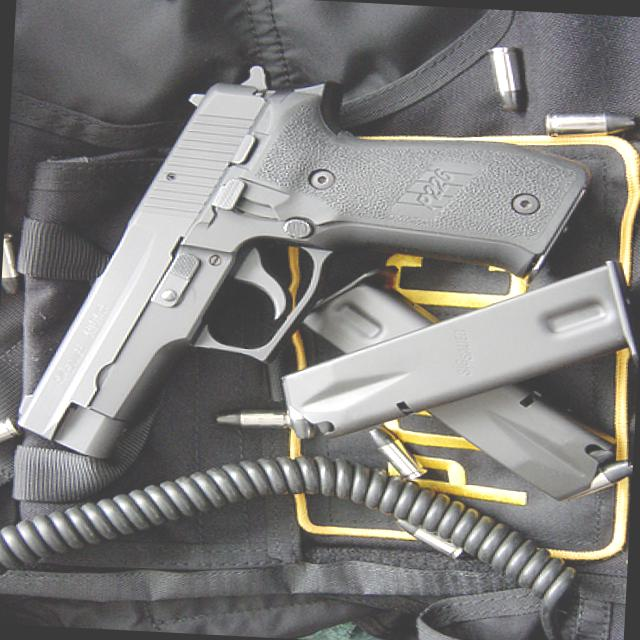handgun: (9, 59, 602, 488)
